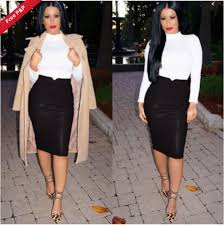F_tailored skirt: (22, 73, 79, 159), (141, 72, 194, 162)
